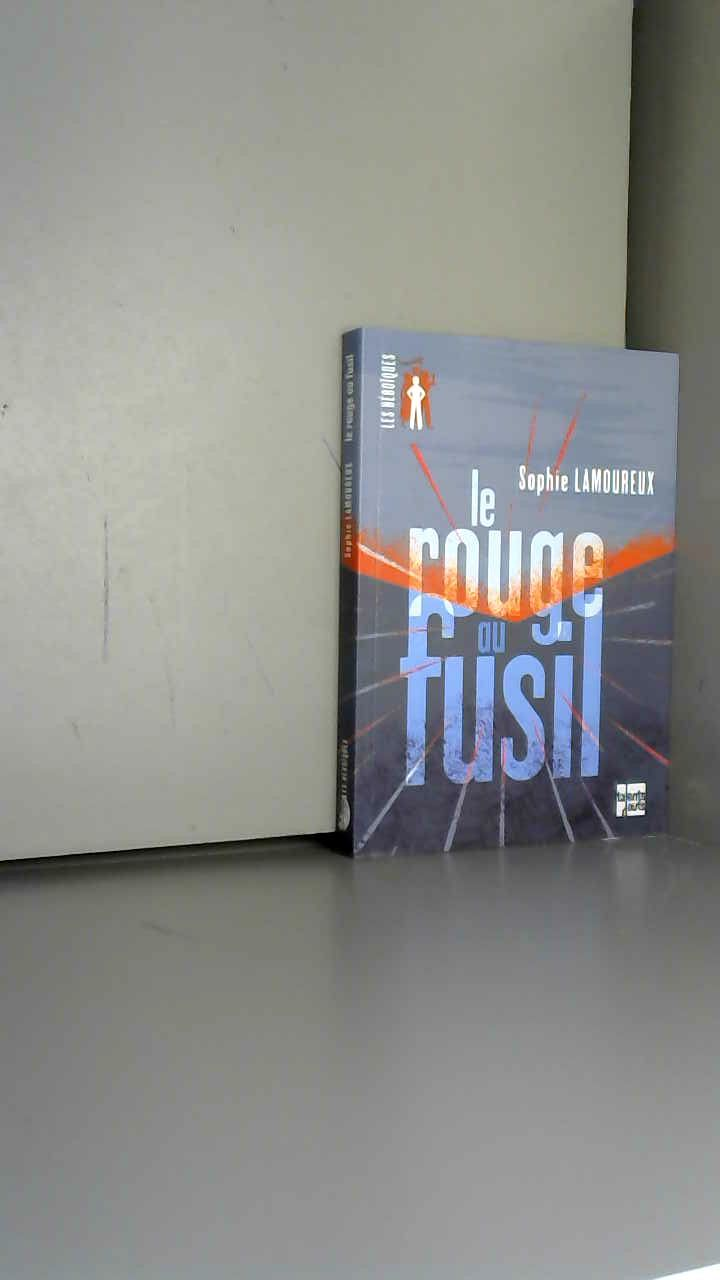book: (310, 300, 719, 881)
